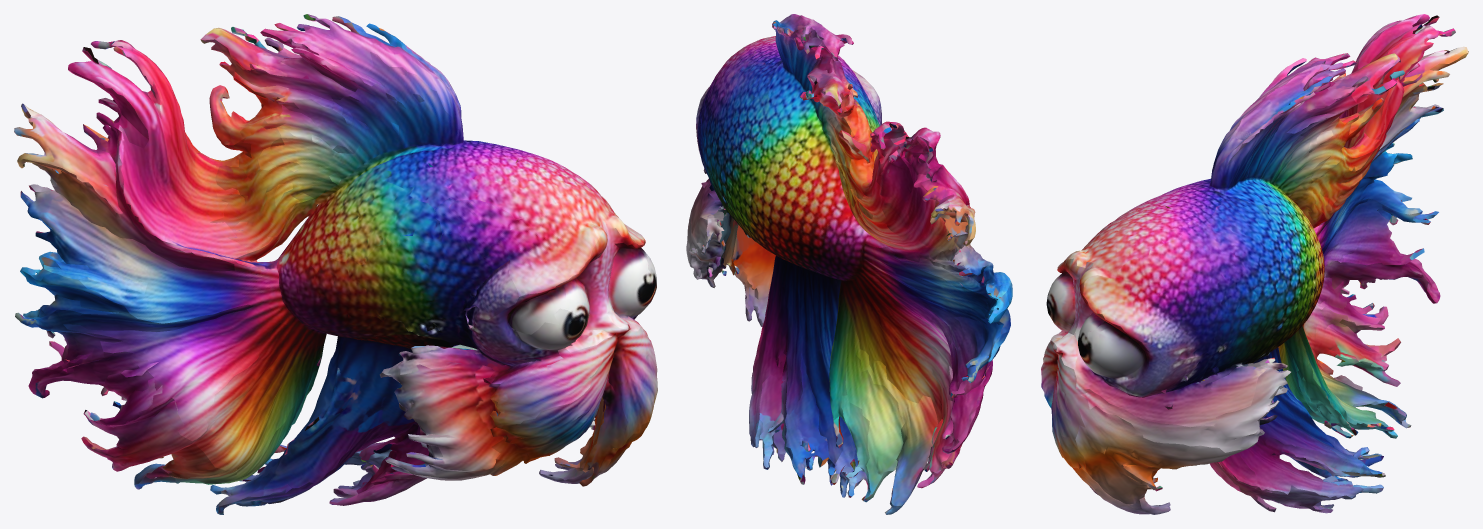
File: lollie.glb
3 renders of one model, left to right at view 1: azimuth 30°, elevation 25°; view 2: azimuth 150°, elevation 25°; view 3: azimuth 270°, elevation 25°, orthographic. The views are drawn at different scales.
Parts seen in each view (by area): view 1: tmpz48mpjtf.ply; view 2: tmpz48mpjtf.ply; view 3: tmpz48mpjtf.ply.
Part boxes in pixels (box(x1,y1,x2,y2)): tmpz48mpjtf.ply: box(14, 14, 657, 514); tmpz48mpjtf.ply: box(686, 14, 1012, 514); tmpz48mpjtf.ply: box(1041, 14, 1468, 514).
Size of the model in its own units: 1.96 by 1.96 by 1.72.
1 material, 1 textured.
